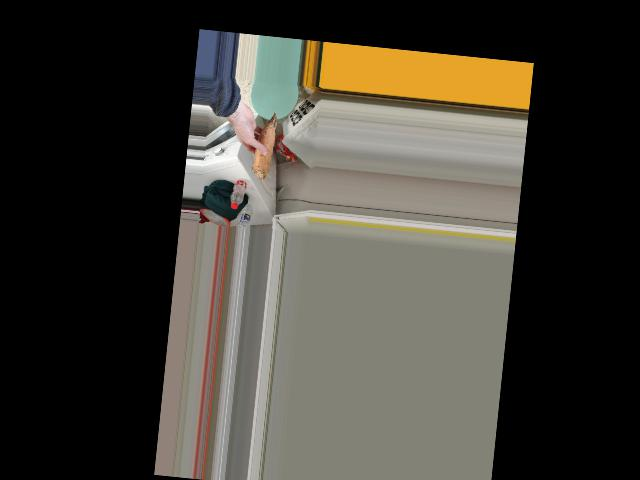sweet_potato: (254, 110, 275, 182)
